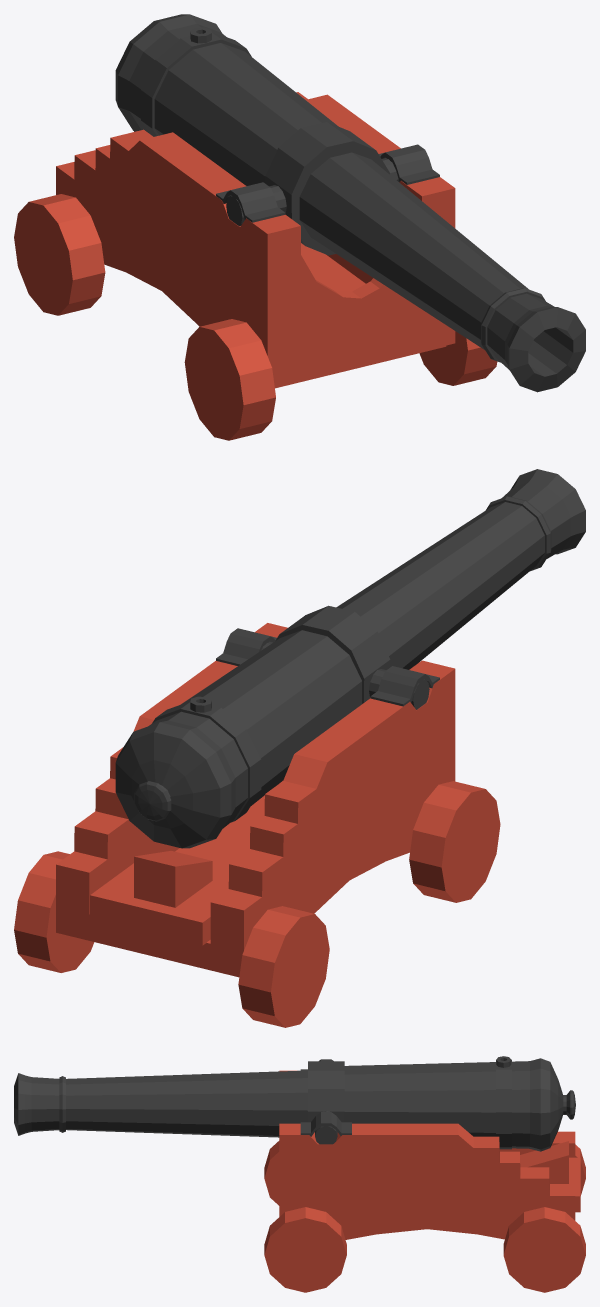
File: Cannon.fbx
The picture shows the model from 3 angles, top to bottom: view 1: azimuth 30°, elevation 25°; view 2: azimuth 150°, elevation 25°; view 3: azimuth 270°, elevation 25°; orthographic projection. The views are drawn at different scales.
Parts seen in each view (by area): view 1: Cube.004, Cylinder.001; view 2: Cube.004, Cylinder.001; view 3: Cube.004, Cylinder.001.
Part boxes in pixels (x1,y1,x2,y2): Cube.004: [14, 92, 497, 440]; Cylinder.001: [115, 14, 585, 392]; Cube.004: [14, 623, 500, 1027]; Cylinder.001: [115, 469, 585, 848]; Cube.004: [264, 1059, 585, 1292]; Cylinder.001: [14, 1056, 575, 1151].
Bounding box in the file's own units: 99.61 × 100 × 274.
